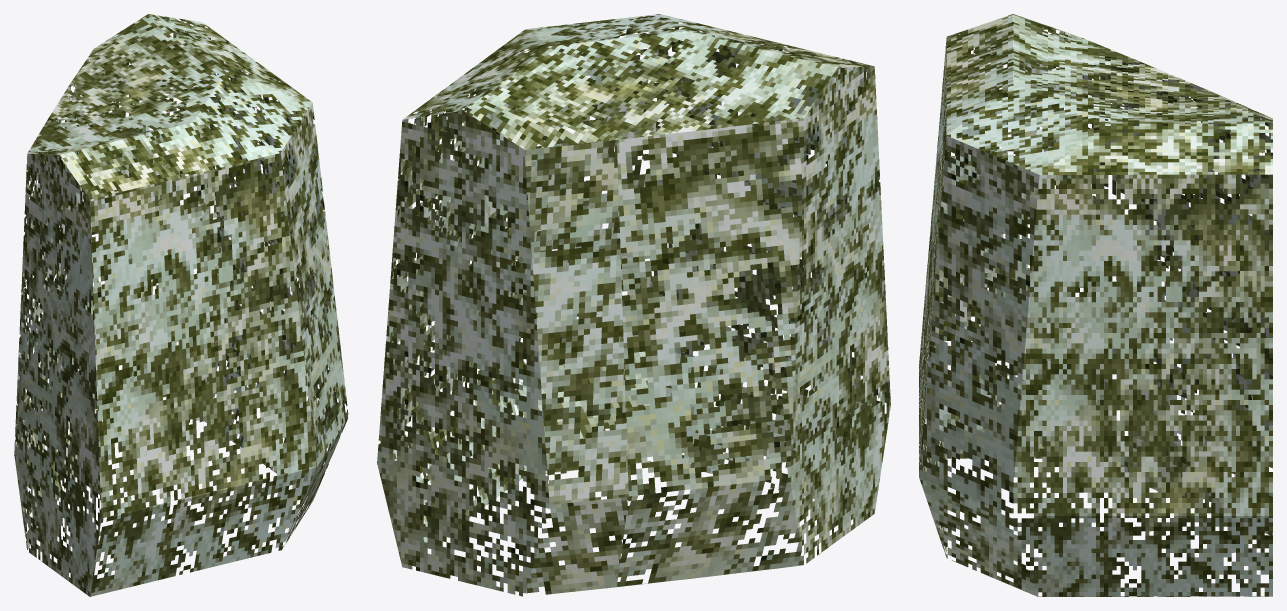
The model's file is bush_long_round_corner_filled_winter.glb.
3 renders of one model, left to right at view 1: azimuth 30°, elevation 25°; view 2: azimuth 150°, elevation 25°; view 3: azimuth 270°, elevation 25°, orthographic. The views are drawn at different scales.
Parts seen in each view (by area): view 1: bush_long_round_corner_filled_winter; view 2: bush_long_round_corner_filled_winter; view 3: bush_long_round_corner_filled_winter.
Boxes of the visible parts, x1=… form: bush_long_round_corner_filled_winter: x1=14, y1=14, x2=348, y2=596; bush_long_round_corner_filled_winter: x1=377, y1=14, x2=890, y2=596; bush_long_round_corner_filled_winter: x1=919, y1=14, x2=1272, y2=596.
Size of the model in its own units: 1.36 by 1.88 by 1.35.
1 material, 1 textured.
